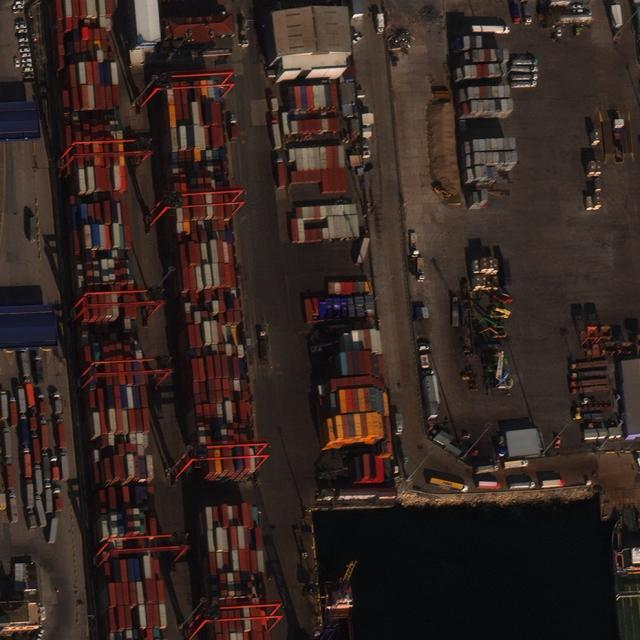Container Ship: (612, 518, 640, 639), (323, 577, 353, 640)
